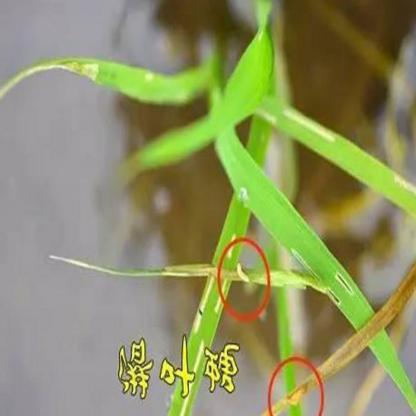whorl-maggot: (235, 257, 253, 291)
